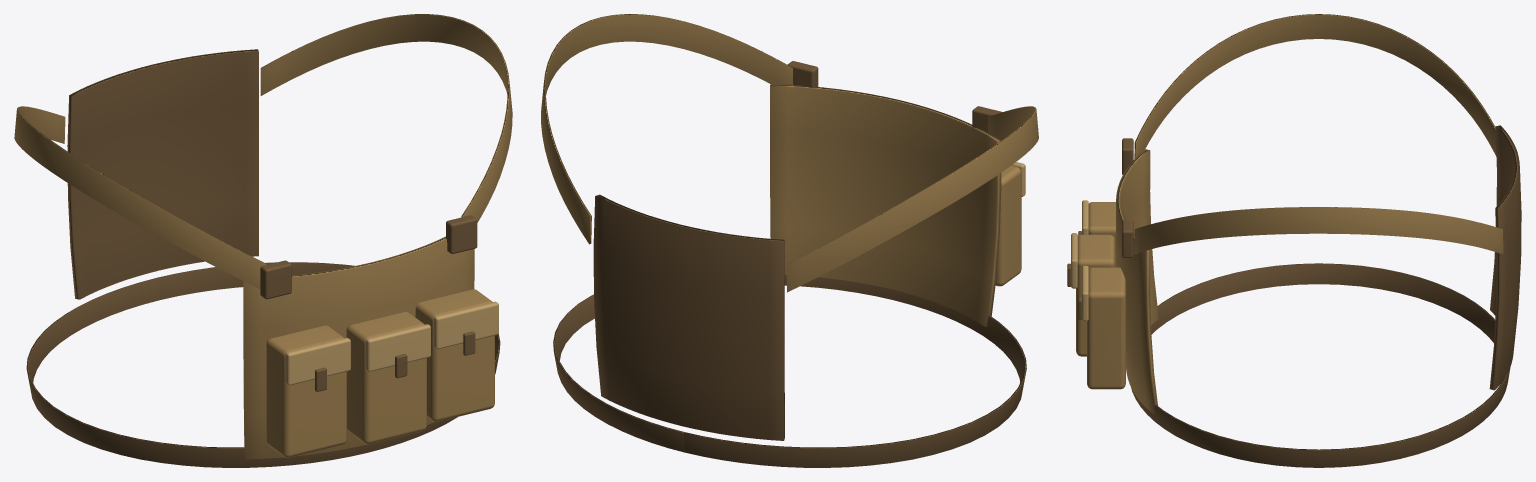
File: goose-light-vest.glb
The picture shows the model from 3 angles, left to right: view 1: azimuth 30°, elevation 25°; view 2: azimuth 150°, elevation 25°; view 3: azimuth 270°, elevation 25°; orthographic projection. The views are drawn at different scales.
Visible parts, largest first — view 1: goose_vest_light_mesh; view 2: goose_vest_light_mesh; view 3: goose_vest_light_mesh.
Boxes of the visible parts, box(x1,y1,x2,y2) form: goose_vest_light_mesh: box(14, 14, 512, 467); goose_vest_light_mesh: box(541, 14, 1038, 467); goose_vest_light_mesh: box(1067, 14, 1521, 467).
Bounding box in the file's own units: 1.01 × 0.6382 × 0.9916.
